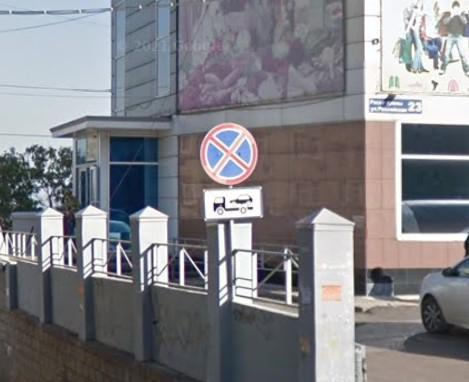No Parking: (199, 121, 261, 189)
